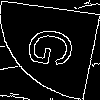G: (25, 25, 86, 72)
